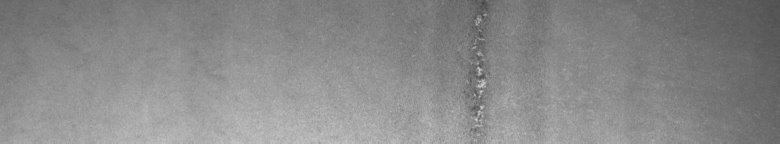hc: (460, 4, 495, 136)
